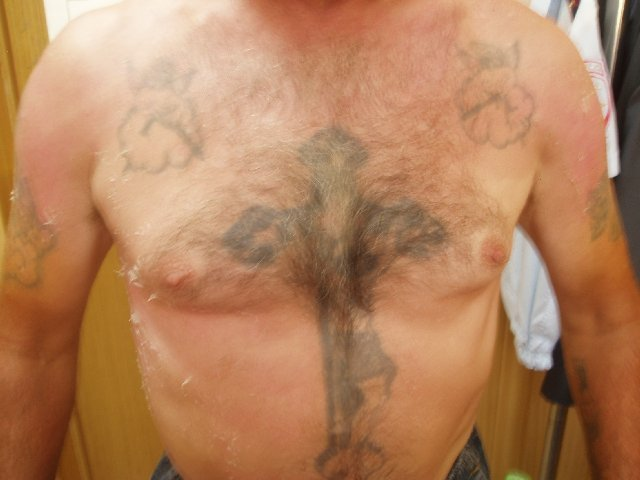tatu1_angel: (437, 30, 547, 155), (106, 55, 214, 175)
tatu9_krest: (223, 121, 453, 480)
